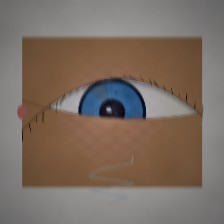foreign_body_visible: (115, 108, 160, 144)
